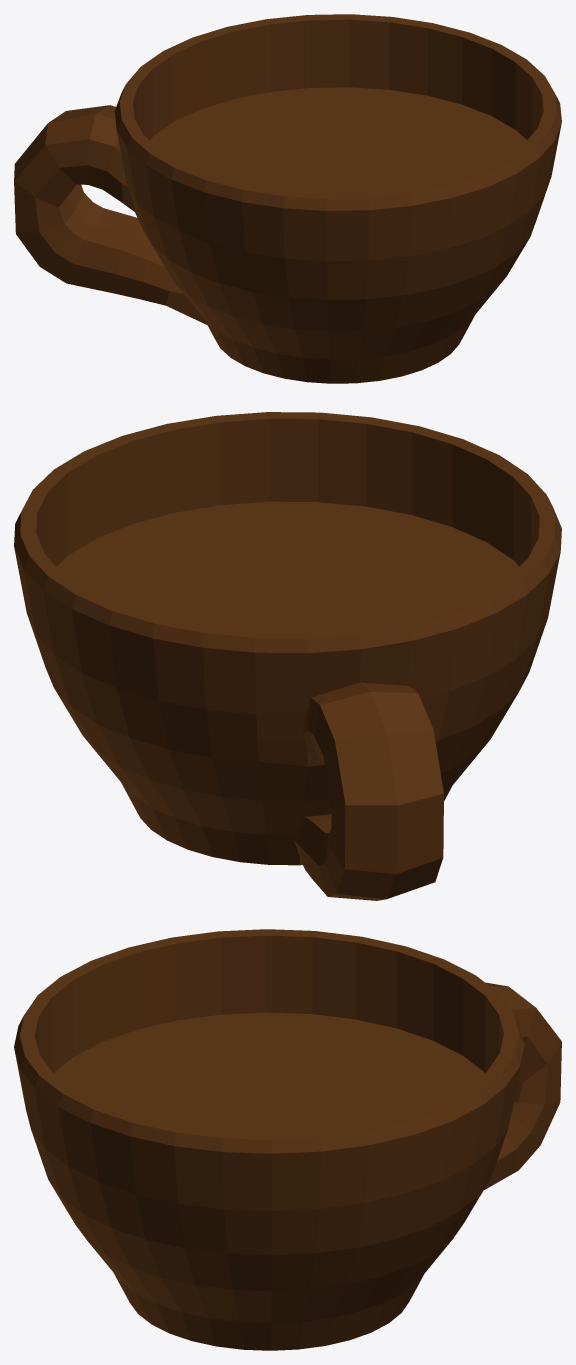
File: Taza.fbx
The picture shows the model from 3 angles, top to bottom: view 1: azimuth 30°, elevation 25°; view 2: azimuth 150°, elevation 25°; view 3: azimuth 270°, elevation 25°; orthographic projection. The views are drawn at different scales.
Visible parts, largest first — view 1: TazaIndividual; view 2: TazaIndividual; view 3: TazaIndividual.
Part boxes in pixels (x1,y1,x2,y2): TazaIndividual: (14,14,561,383); TazaIndividual: (14,412,561,900); TazaIndividual: (14,929,561,1350).
Bounding box in the file's own units: 8.77 × 4.48 × 8.7.
